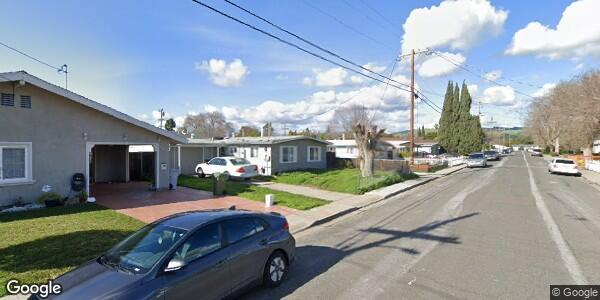Wood_Pole: (394, 44, 433, 171)
